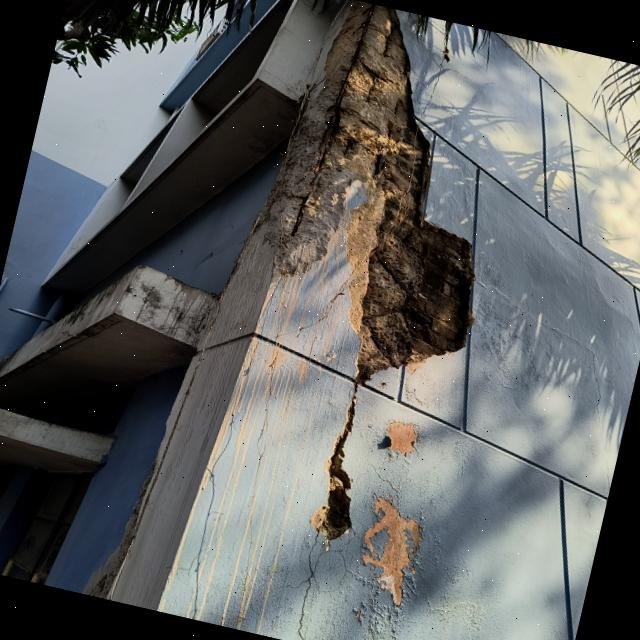Crack: (273, 25, 325, 52), (262, 66, 296, 90)
Paint Peeling: (362, 497, 422, 605), (387, 421, 417, 455)
Scaling: (310, 394, 356, 545)
Spalling: (261, 0, 473, 382)
